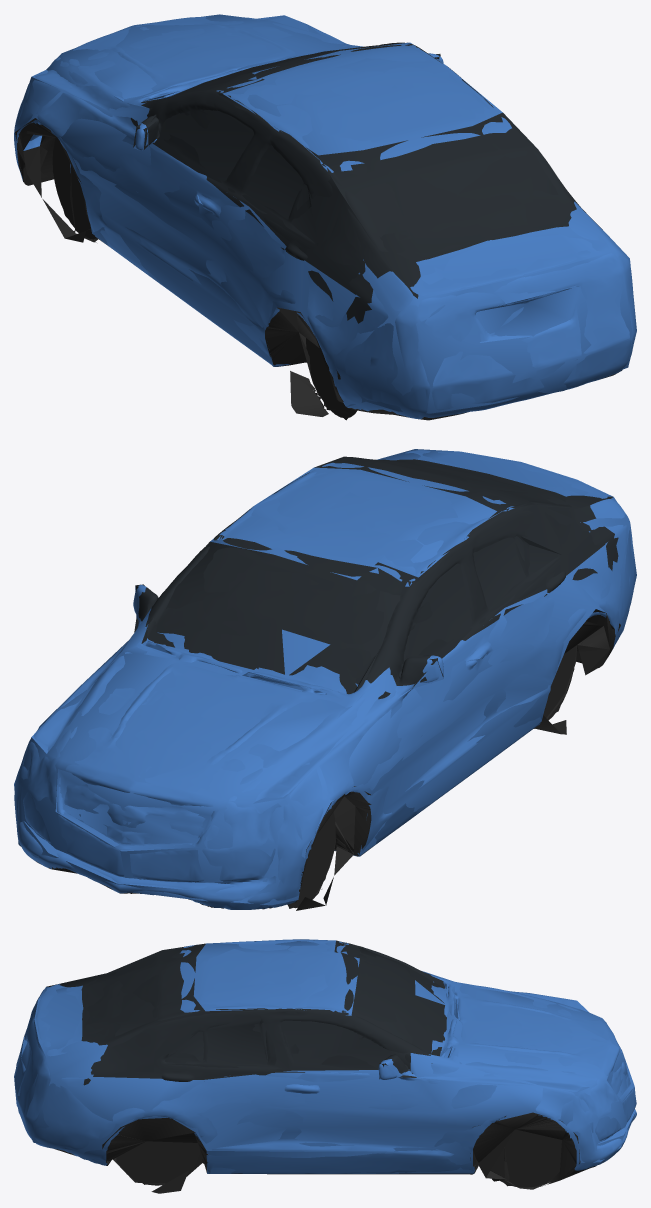
Rendered from cadillac-ats.glb.
3 views of the same model, one above another, from view 1: azimuth 30°, elevation 25°; view 2: azimuth 150°, elevation 25°; view 3: azimuth 270°, elevation 25° (orthographic). The views are drawn at different scales.
Visible parts, largest first — view 1: body, far; view 2: body, far; view 3: body, far.
Part boxes in pixels (x1,y1,x2,y2): body: (14,16,635,420); far: (15,14,636,420); body: (14,450,634,910); far: (14,449,636,908); body: (14,939,636,1193); far: (14,939,635,1186).
Size of the model in its own units: 2.01 by 1.51 by 4.72.
